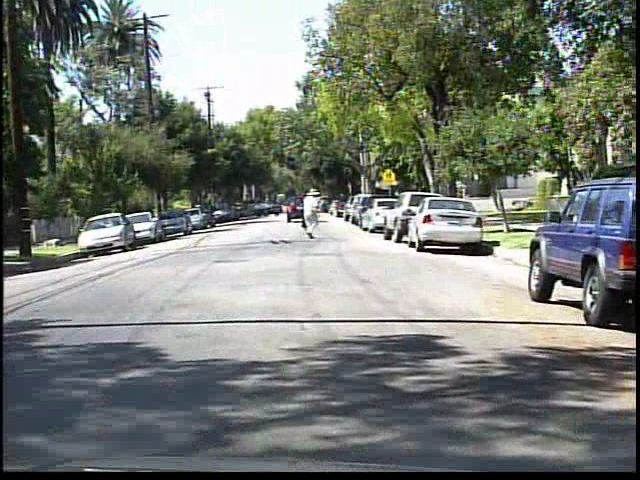person: (297, 187, 327, 241)
